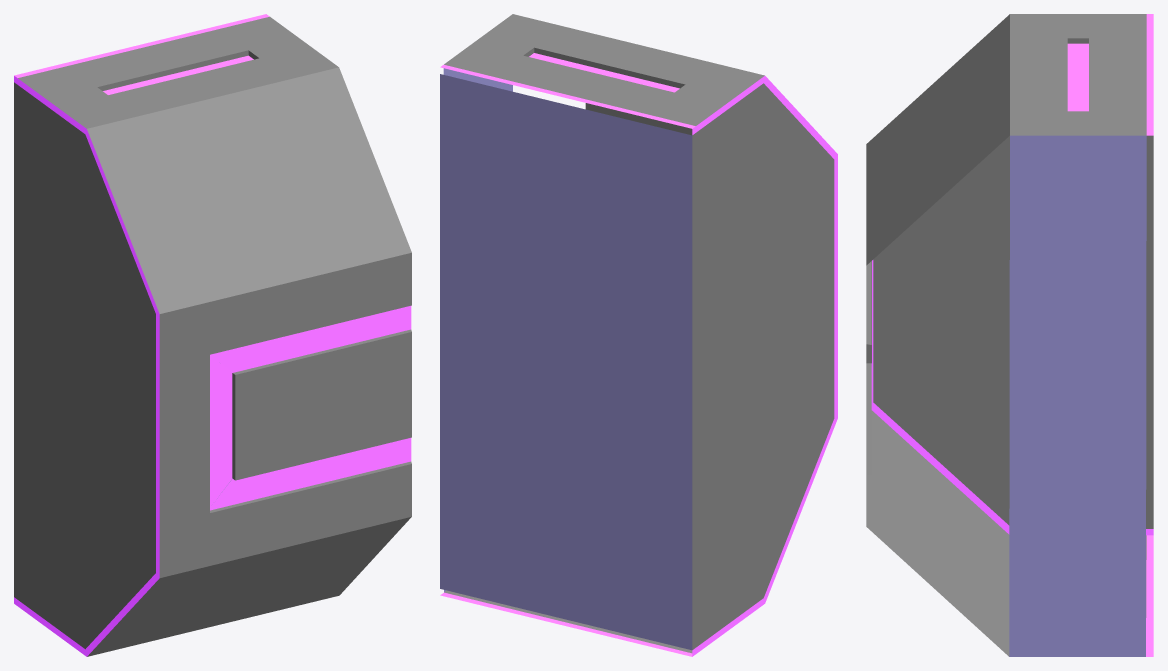
File: PlatformEndShortFlat.FBX
3 views of the same model, side by side, from view 1: azimuth 30°, elevation 25°; view 2: azimuth 150°, elevation 25°; view 3: azimuth 270°, elevation 25° (orthographic).
Parts seen in each view (by area): view 1: PlatformEndShortFlat; view 2: PlatformEndShortFlat; view 3: PlatformEndShortFlat.
Part boxes in pixels (bbox=[...]): PlatformEndShortFlat: bbox=[14, 14, 411, 656]; PlatformEndShortFlat: bbox=[440, 14, 837, 656]; PlatformEndShortFlat: bbox=[866, 14, 1153, 656].
Bounding box in the file's own units: 50.37 × 50 × 100.
